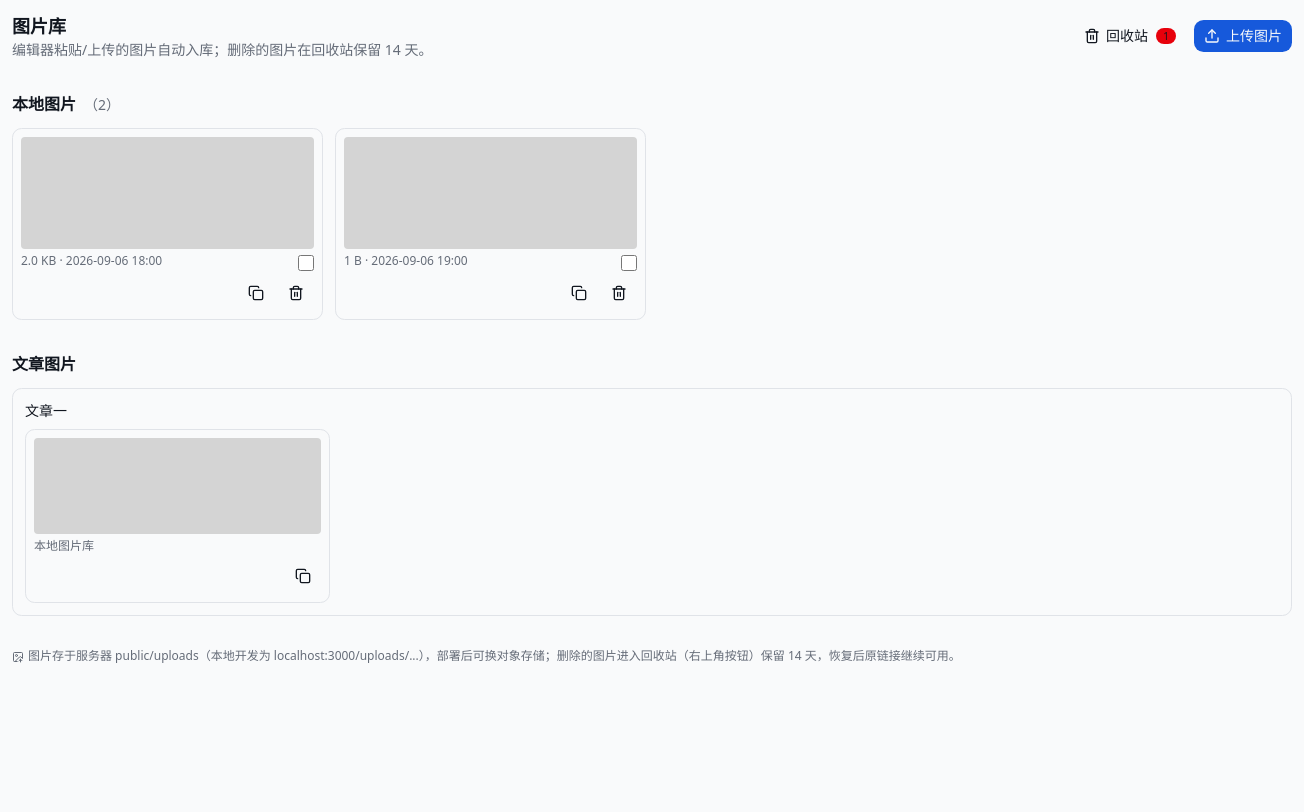
Test case: ImageLibraryClient 多选与批量 › 点击图片直接选中，无需进入多选模式；连续点选多张累积，再点取消
The image size is (1304, 812).
点击卡片本体即选中（勾选框所在卡片容器）
Click the button with test id "select-a.png" at point(168, 224), box x1=12 y1=128 x2=323 y2=320
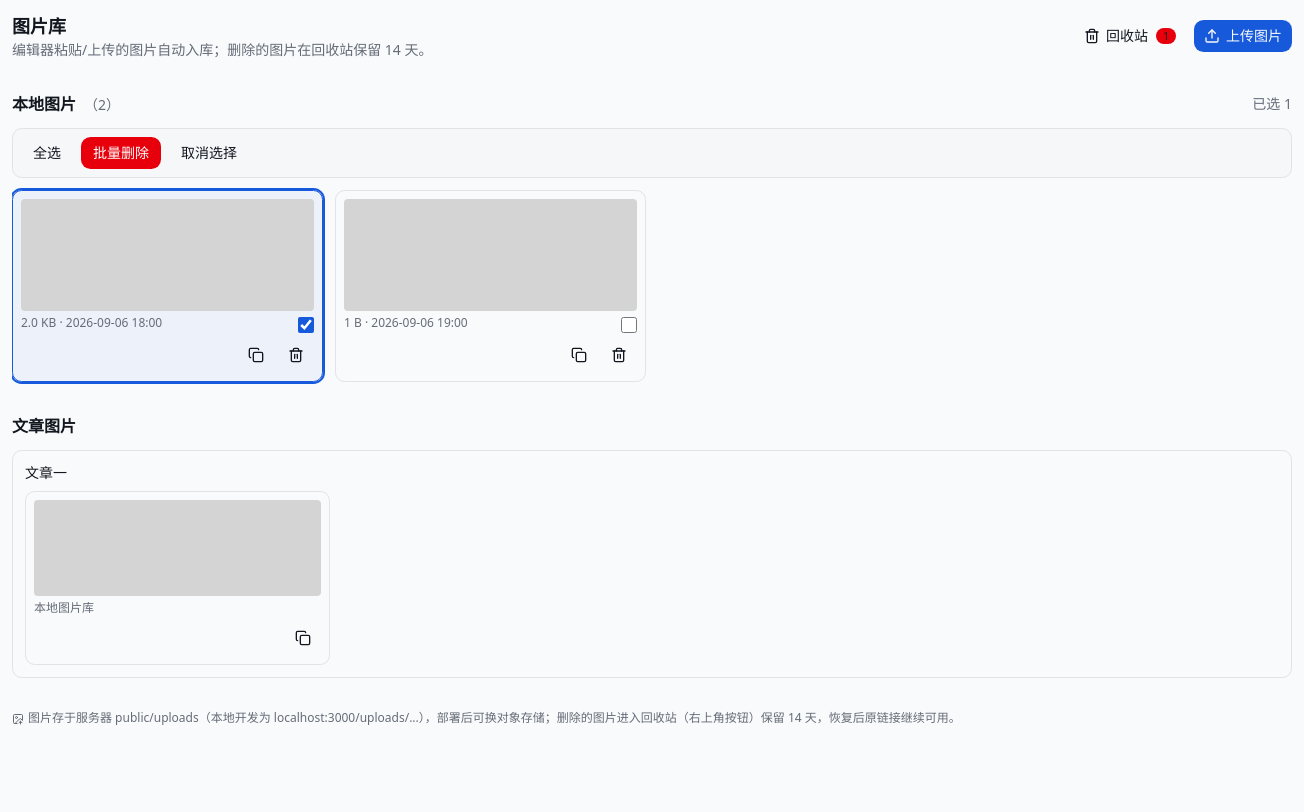
Now the element with test id "batch-bar-local-image" is shown, box x1=12 y1=128 x2=1292 y2=178
Now the text with test id "selection-count" reads "已选 1", box x1=1252 y1=94 x2=1292 y2=114
Click the button with test id "select-b.png" at point(490, 286), box x1=335 y1=190 x2=646 y2=382
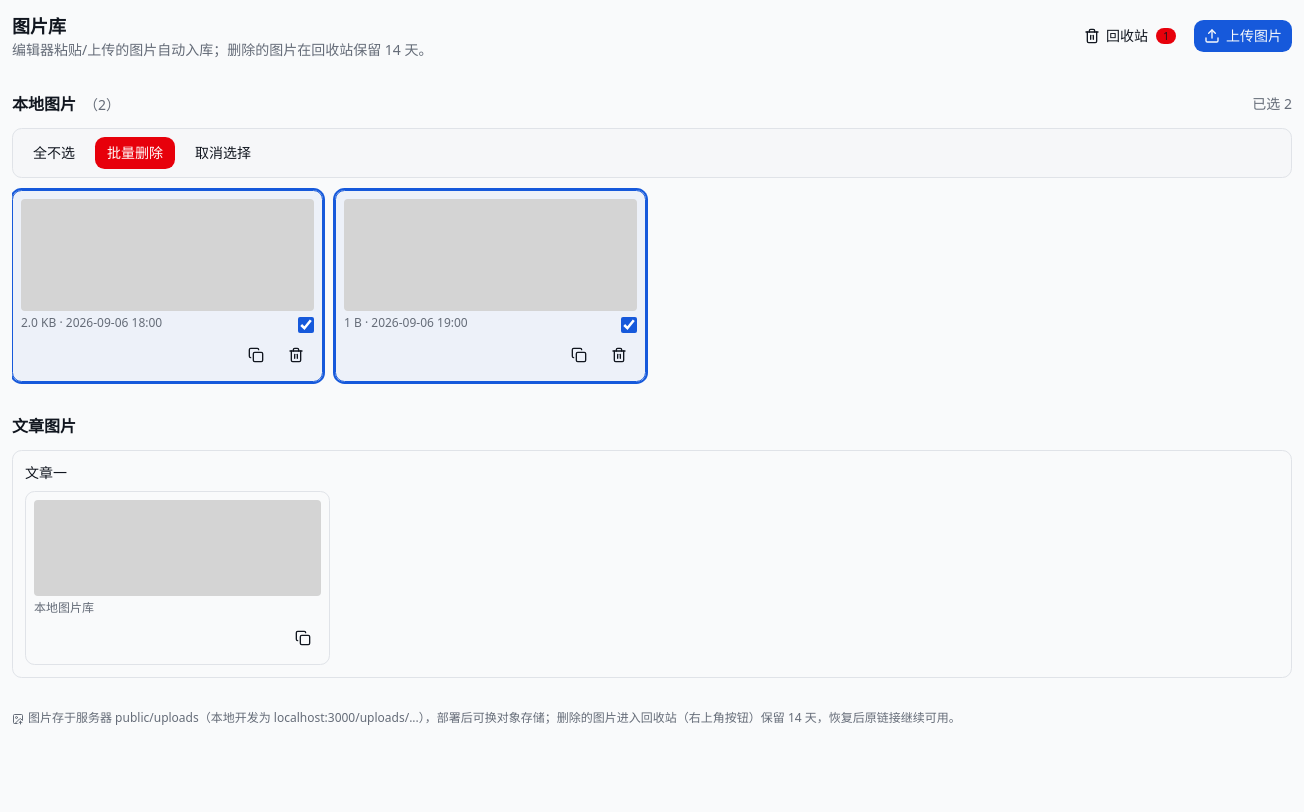
Now the text with test id "selection-count" reads "已选 2", box x1=1252 y1=94 x2=1292 y2=114
再点已选中的卡片 → 取消选中
Click the button with test id "select-a.png" at point(168, 286), box x1=12 y1=190 x2=323 y2=382
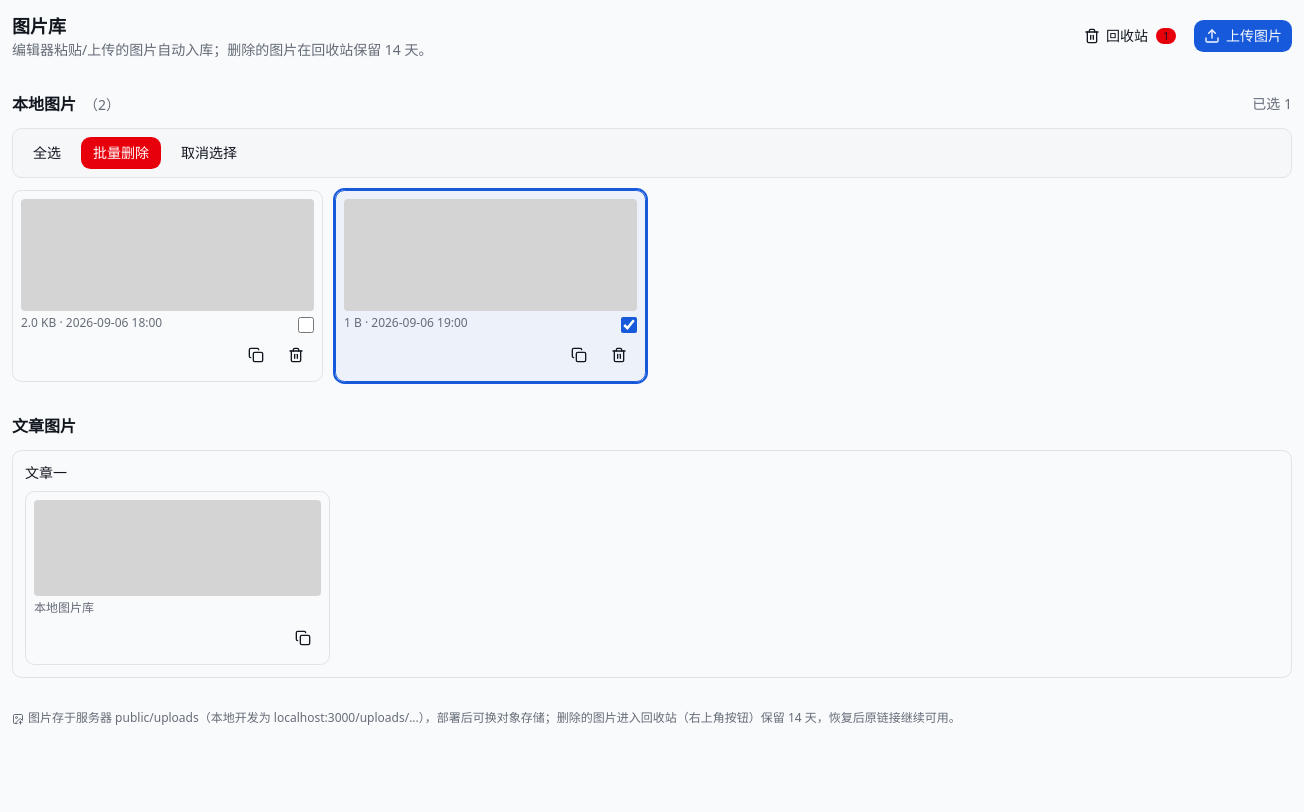
Now the text with test id "selection-count" reads "已选 1", box x1=1252 y1=94 x2=1292 y2=114
